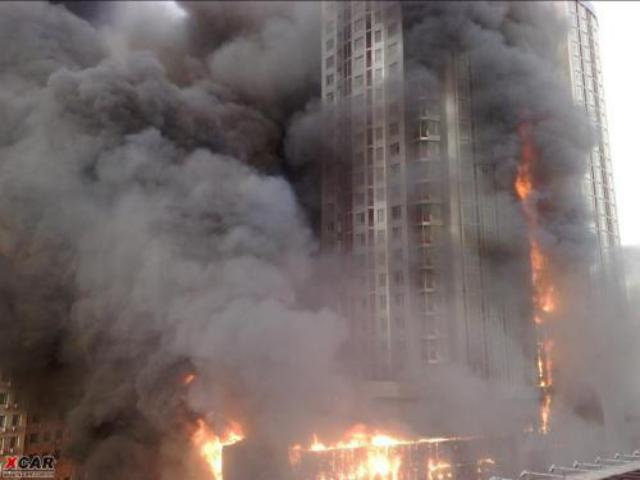fire: (528, 241, 550, 319), (348, 450, 400, 478), (195, 422, 221, 476), (514, 122, 530, 198), (342, 424, 398, 444), (536, 339, 552, 387), (425, 458, 451, 478), (538, 393, 548, 435), (222, 421, 238, 445), (308, 432, 324, 451), (326, 438, 342, 446)
